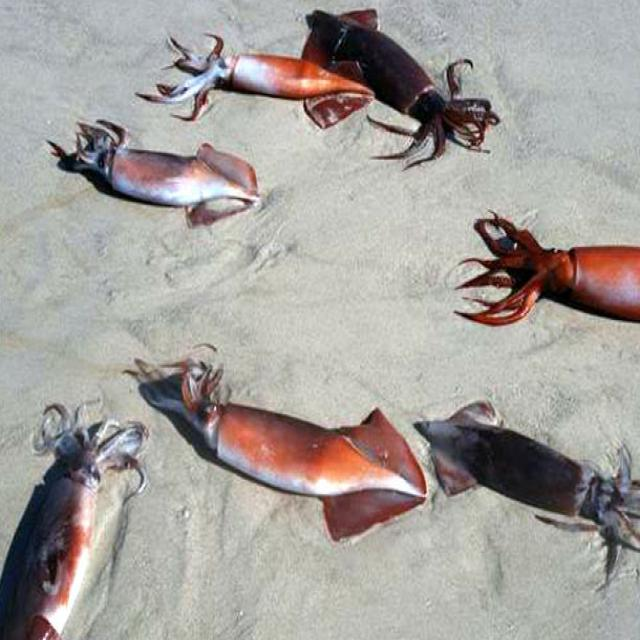SQUID: (412, 397, 640, 591), (170, 362, 429, 506), (293, 0, 519, 161), (129, 0, 377, 143), (0, 400, 146, 640), (435, 197, 640, 346), (56, 133, 261, 223)
